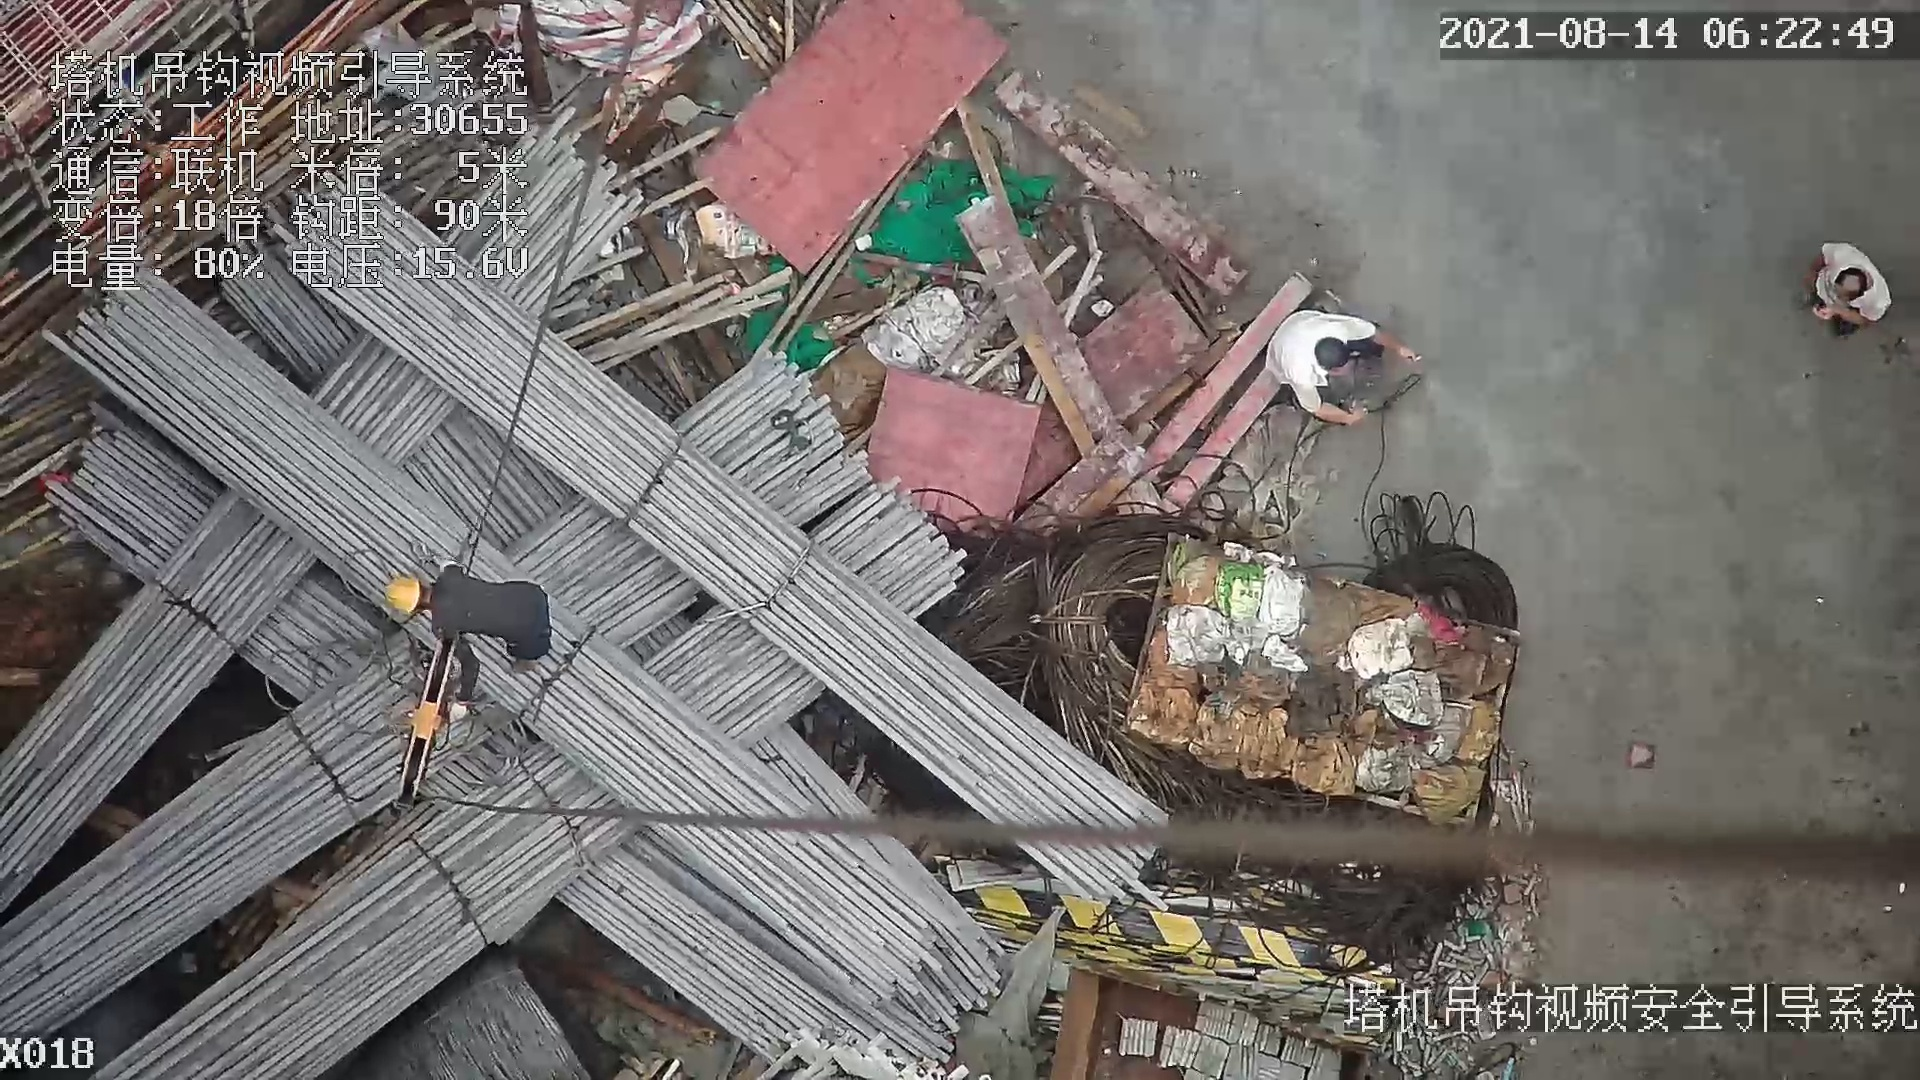board: (691, 1, 1015, 271)
helmet: (384, 575, 428, 615)
hook: (381, 628, 465, 815)
person: (385, 556, 565, 677), (1270, 309, 1422, 428), (1804, 228, 1891, 345)
